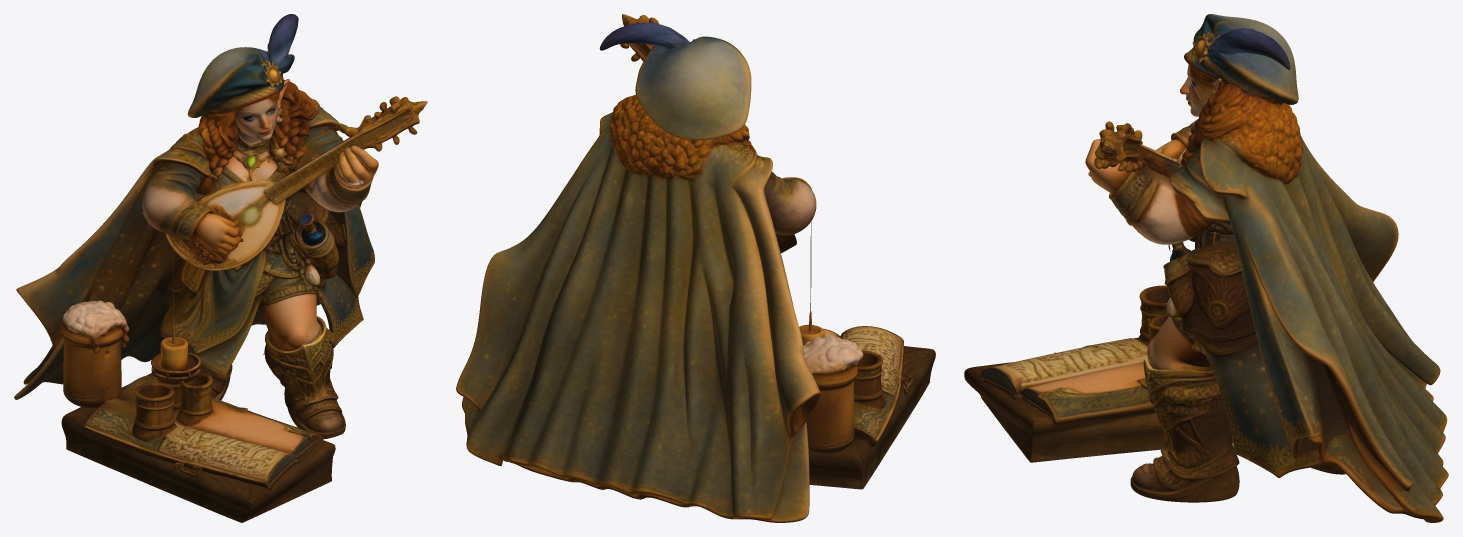
File: dwarf_bard_full_female_01.glb
The picture shows the model from 3 angles, left to right: view 1: azimuth 30°, elevation 25°; view 2: azimuth 150°, elevation 25°; view 3: azimuth 270°, elevation 25°; orthographic projection. The views are drawn at different scales.
Parts seen in each view (by area): view 1: material; view 2: material; view 3: material.
Part boxes in pixels (box(x1,y1,x2,y2)): material: box(14, 14, 427, 522); material: box(456, 14, 935, 522); material: box(964, 14, 1448, 522).
Bounding box in the file's own units: 0.7214 × 0.795 × 0.761.
Materials: 1 (1 with a texture image).
